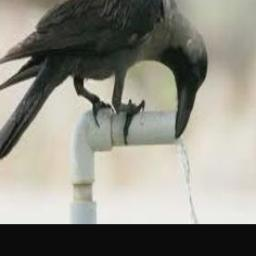Crow: (0, 0, 208, 159)
